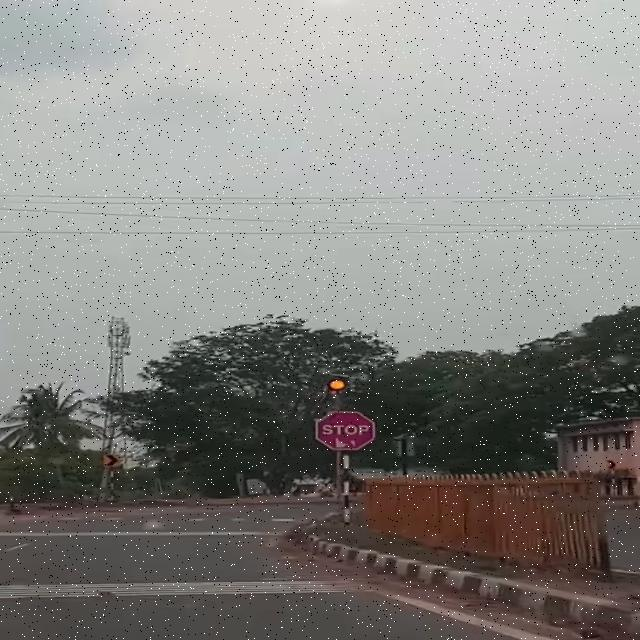stop: (310, 412, 375, 454)
